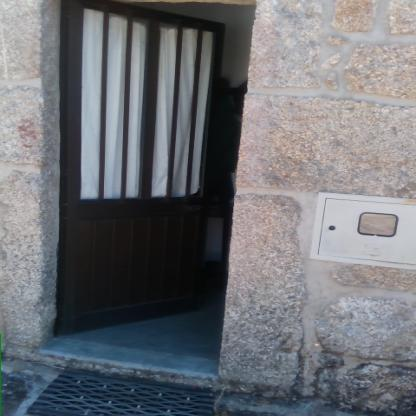semi: (43, 5, 266, 392)
